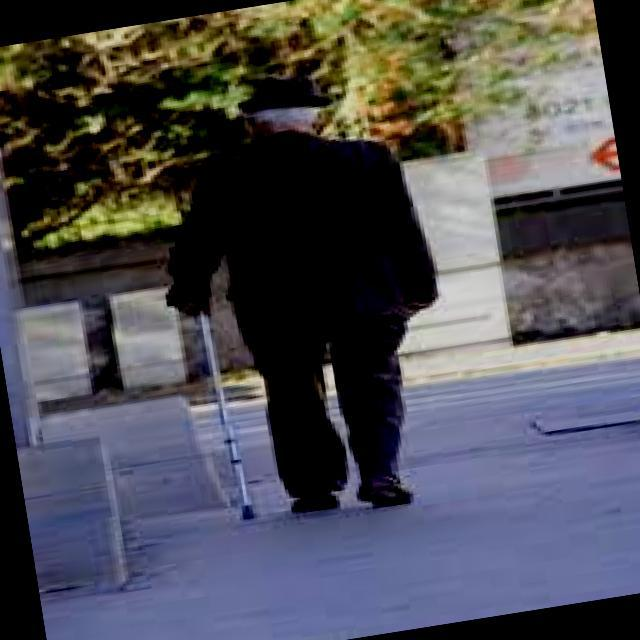person: (110, 52, 485, 549)
